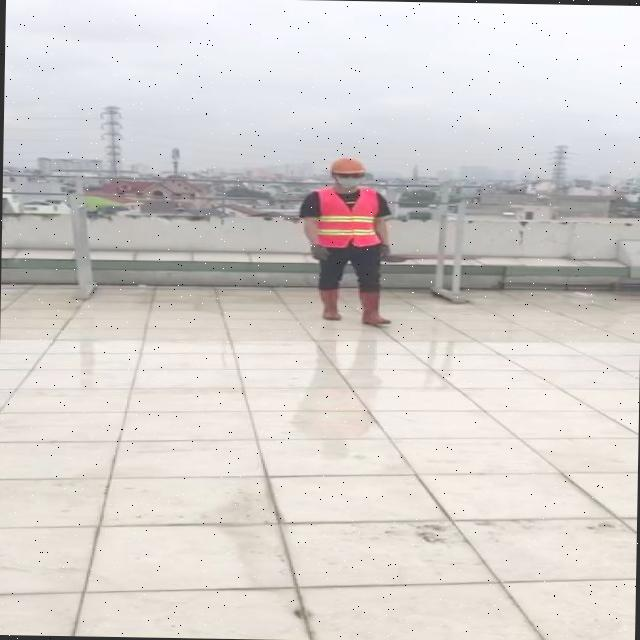boots: (356, 288, 396, 324), (315, 286, 346, 320)
